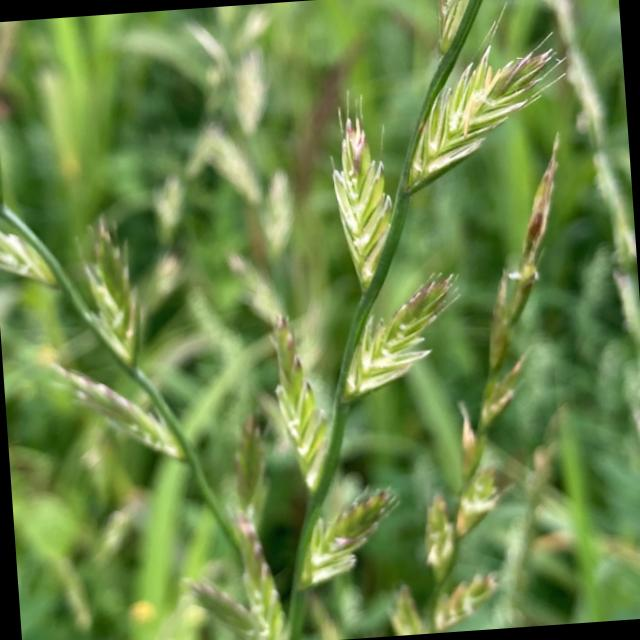Lolium: (239, 0, 585, 640), (0, 163, 296, 640), (356, 148, 598, 636)
